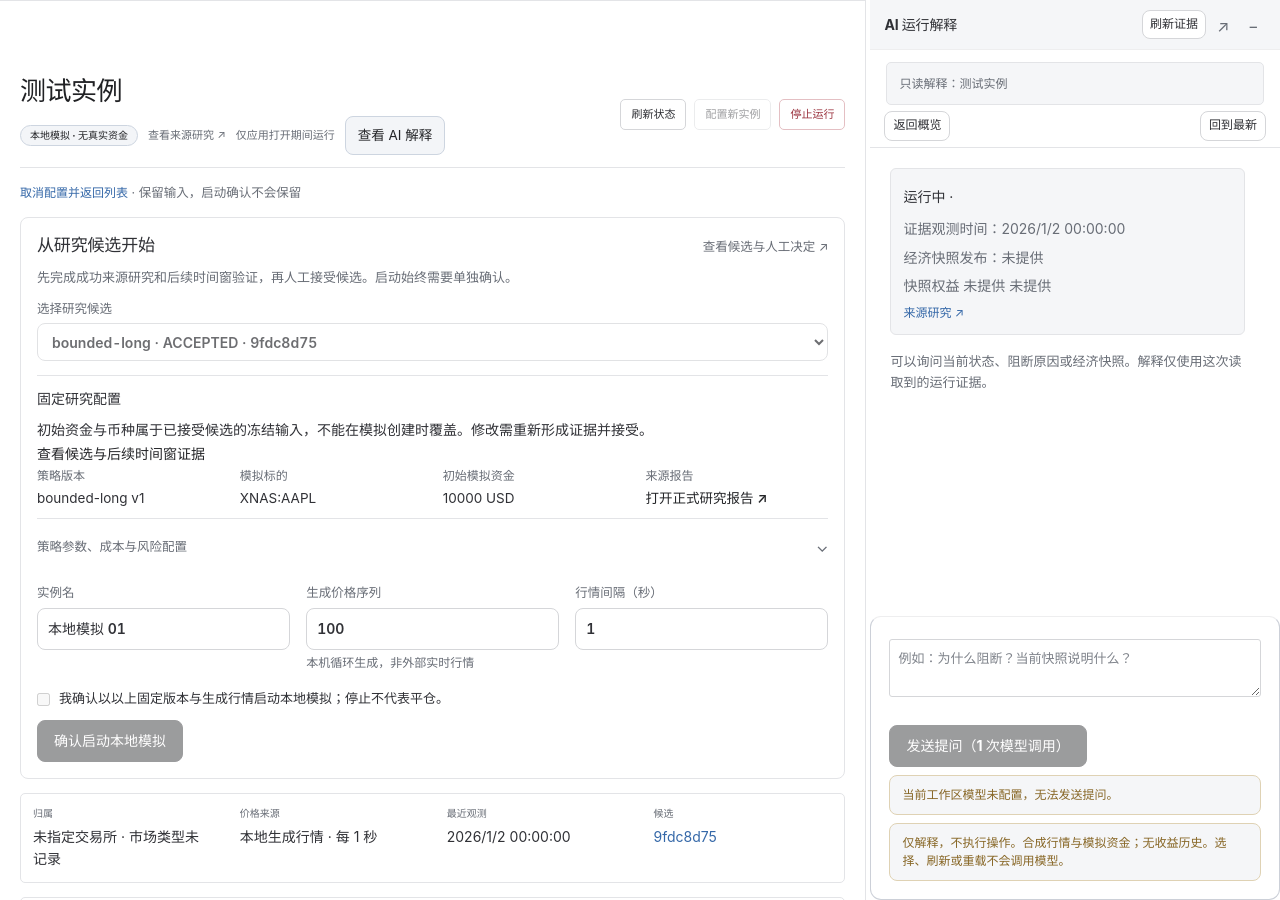
Test: 【fixture】a dropped poll keeps the economic snapshot and demotes permission until a good poll returns
Click the button "刷新状态" at [653, 114], box [620, 99, 686, 130]
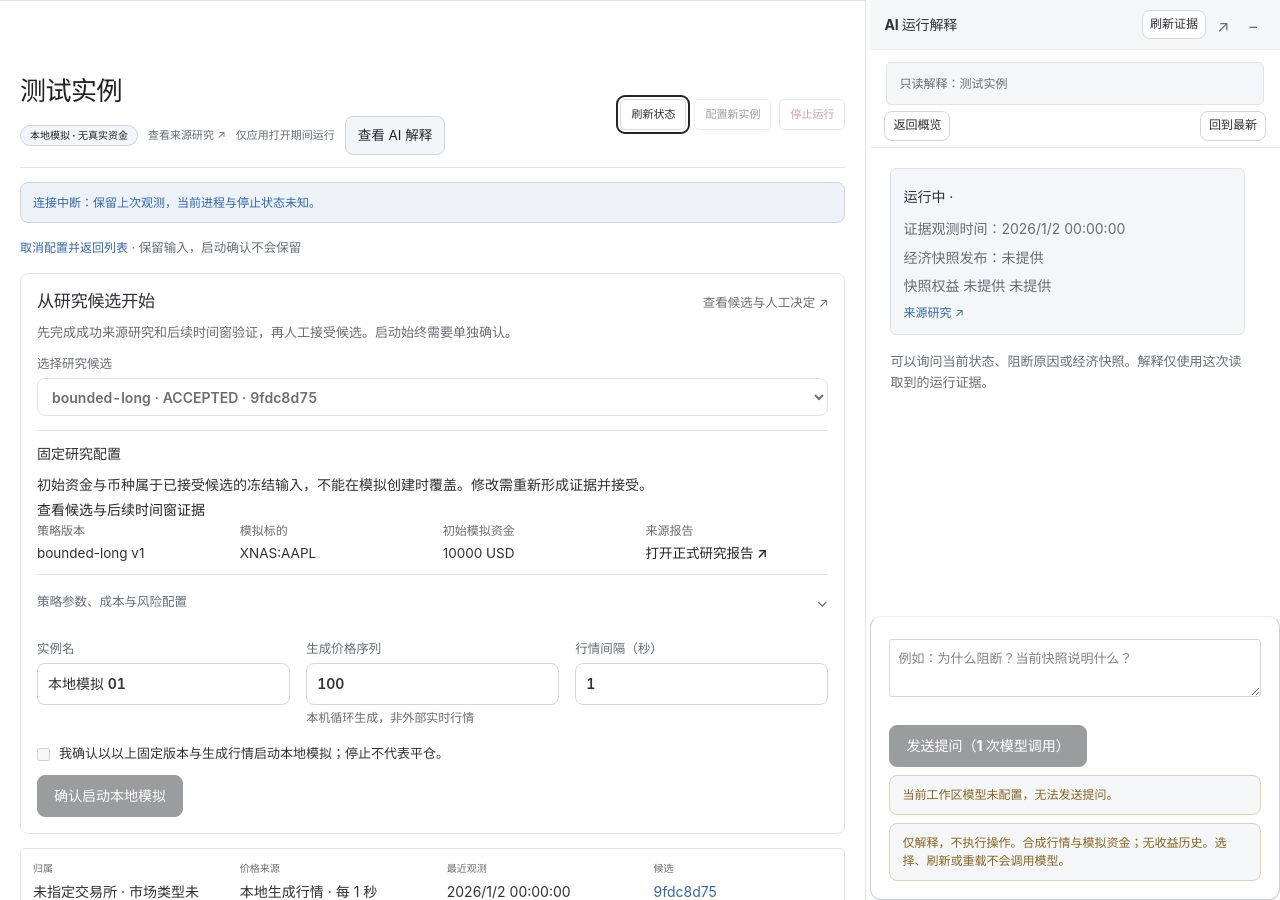
expect the text "连接中断：保留上次观测，当前进程与停止状态未知。" is shown: met, box [20, 182, 845, 223]
Click the button "刷新状态" at [653, 114], box [620, 99, 686, 130]
(page scrolled)
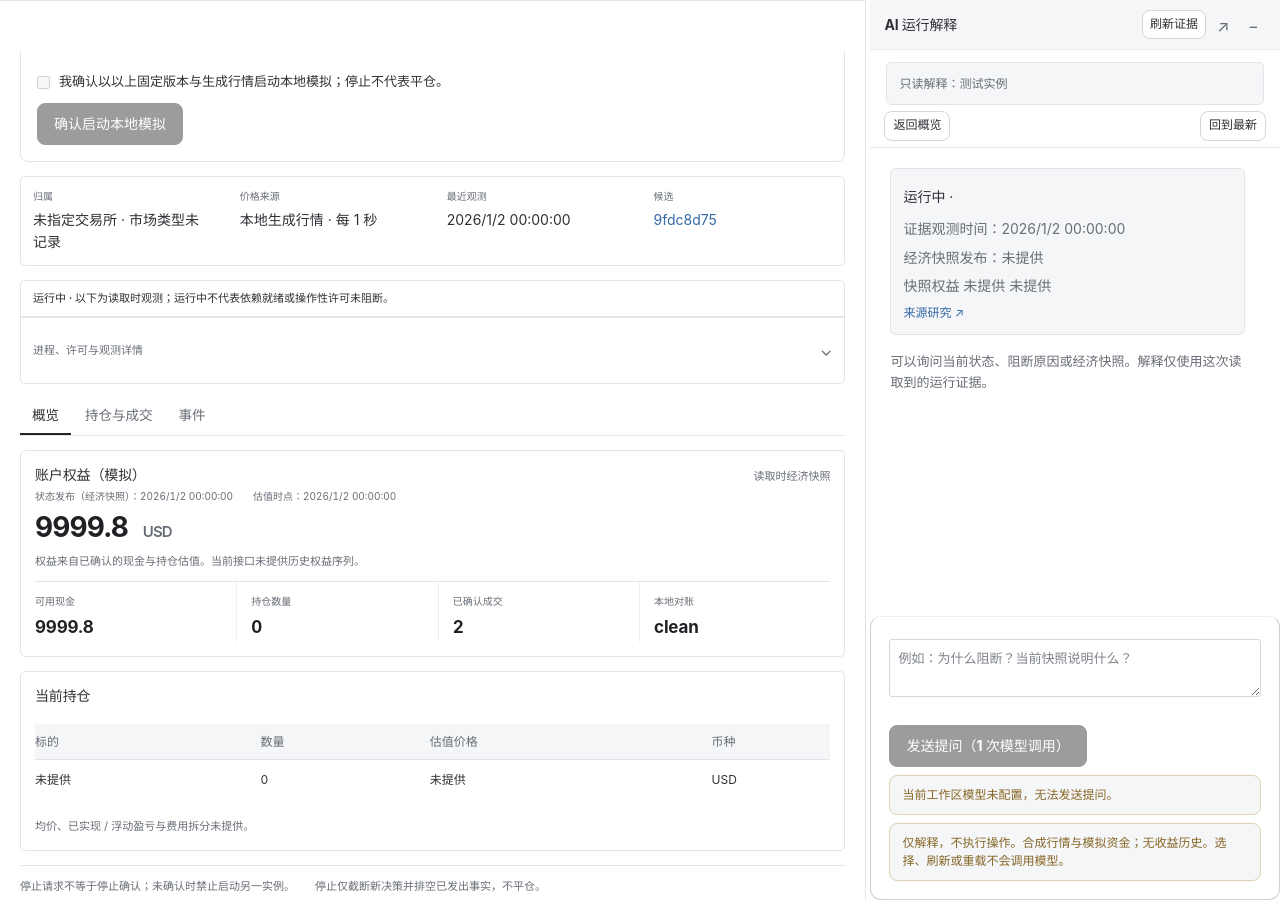
expect the text "连接中断：保留上次观测，当前进程与停止状态未知。" is gone: met
expect the text "读取时经济快照" is shown: met, box [753, 468, 830, 485]
